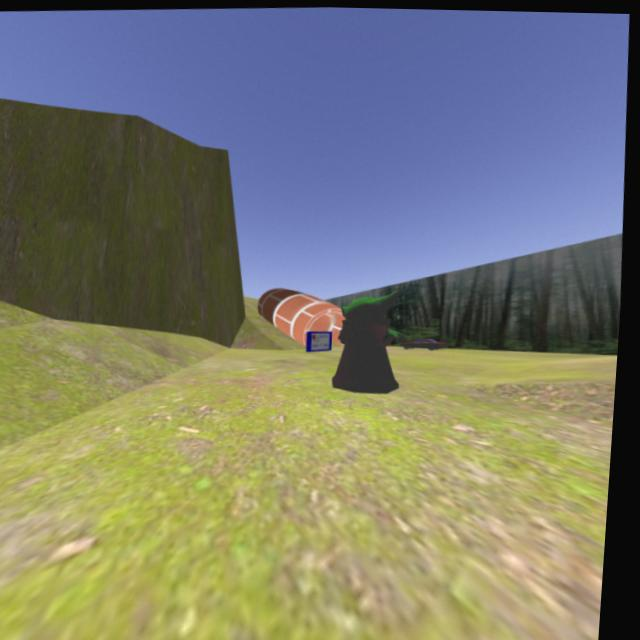yoda: (330, 284, 410, 403)
